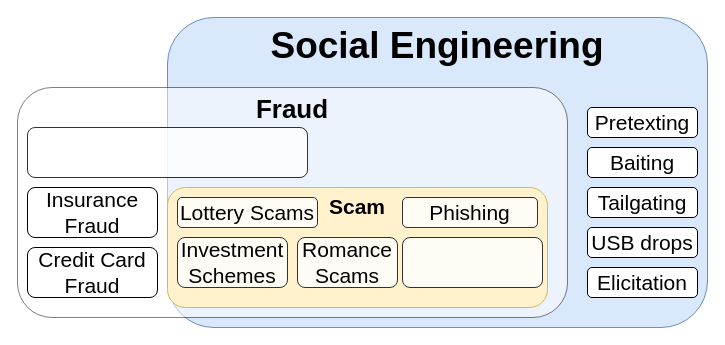
The diagram is 725 pixels wide and 345 high, and some of its shapes have lost their labels. The shapes that lost their labels are listed below. From the top down, each one's centre as x and y in pixels, then its label:
At point 167,152: "Identity Theft".
At point 472,262: "Tech Support Scams".
